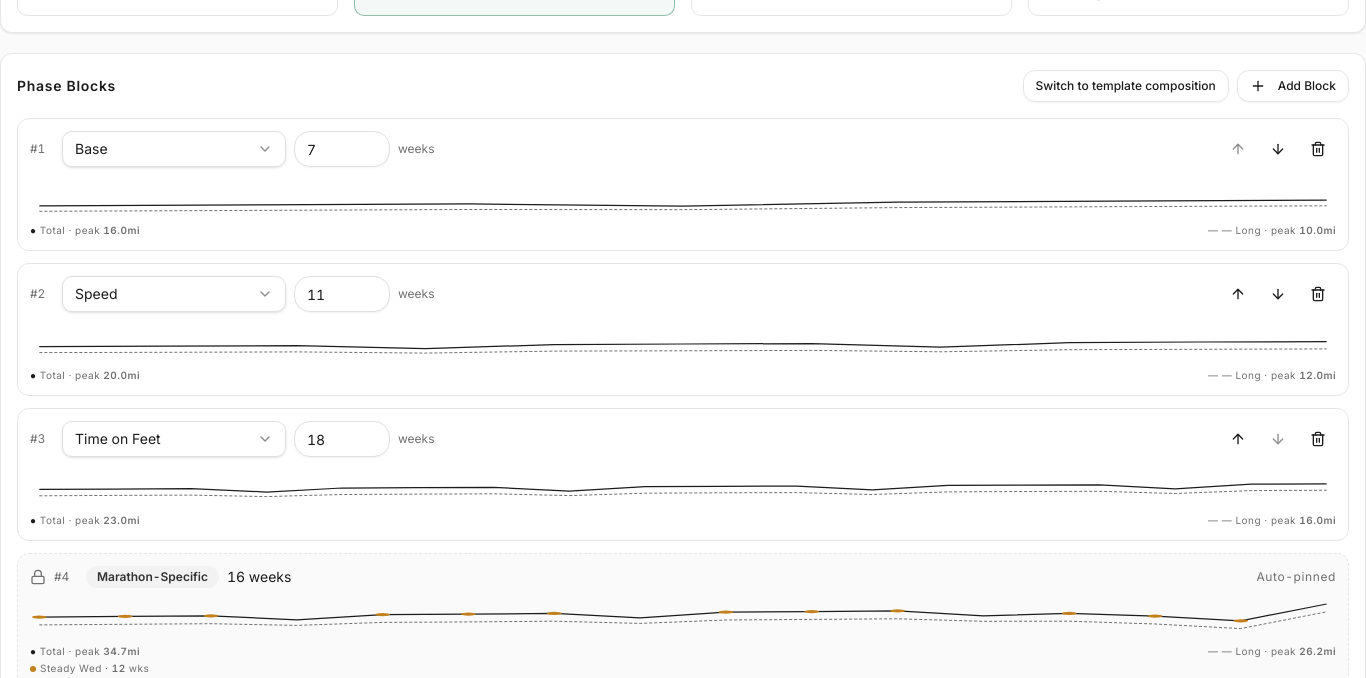
Scenario: Planner block editor › removes the targeted block, leaving the others intact
(page scrolled)
Remove the middle (Speed / 11w) block.
Click the button with test id "planner-block-1-remove" at coordinates (1318, 294), box [1300,276,1336,312]
(page scrolled)
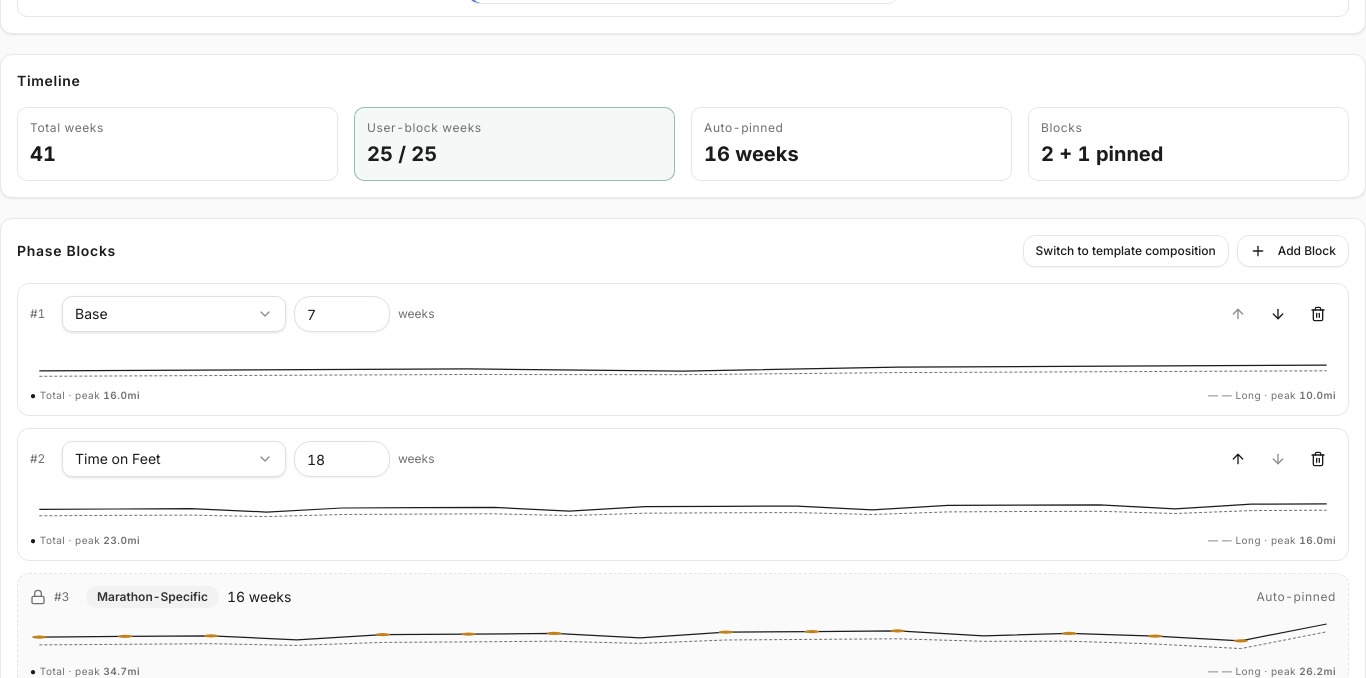
Expected: the number field with test id "planner-block-0-weeks" holds "7", [294,296,390,332]
Now the number field with test id "planner-block-1-weeks" holds "18", box [294,441,390,477]
Now the dropdown with test id "planner-block-1-focus" reads "Time on Feet", box [62,441,286,477]
